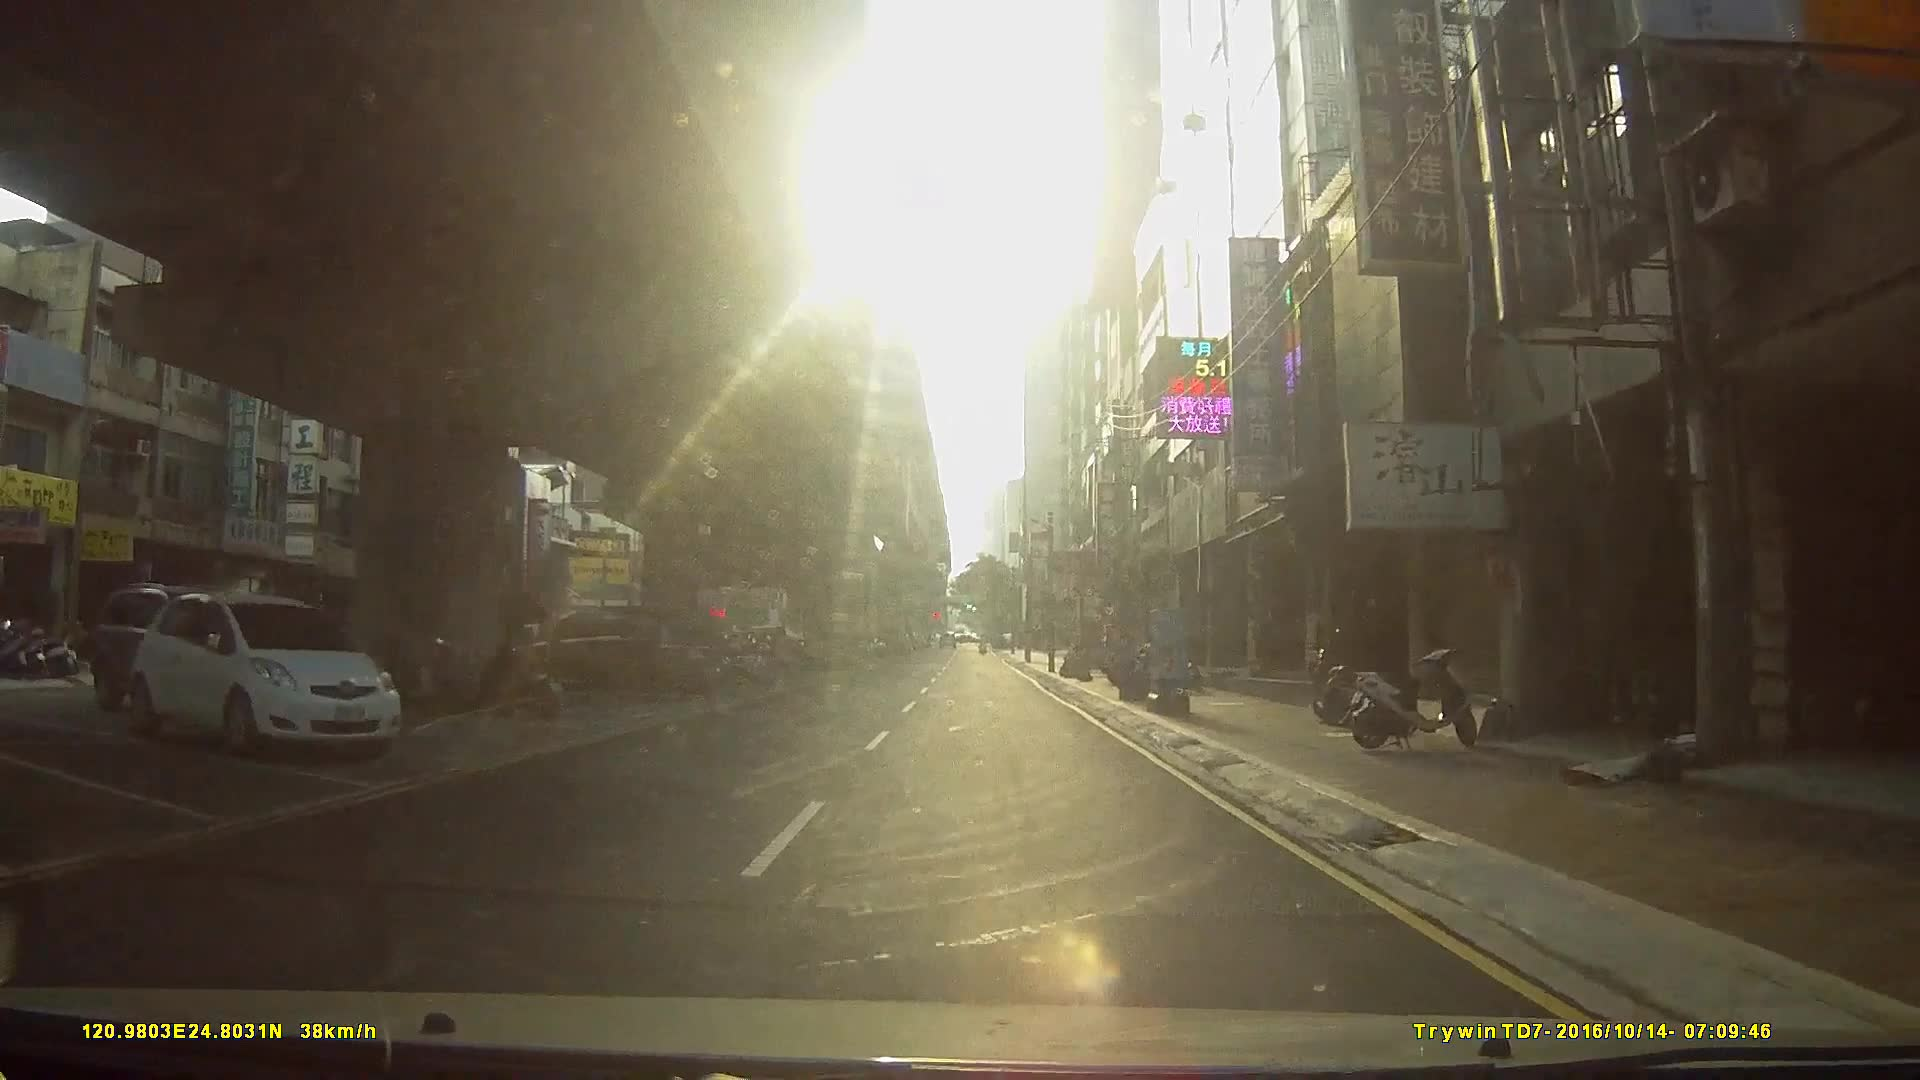vehicle: (123, 592, 400, 757), (88, 582, 255, 709), (525, 604, 723, 698)
